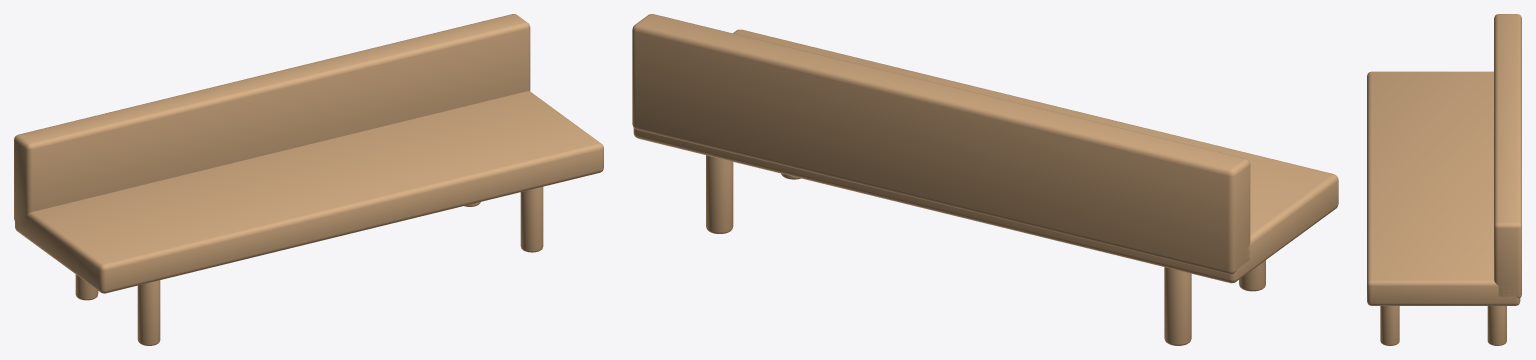
Rendered from bench.glb.
3 renders of one model, left to right at view 1: azimuth 30°, elevation 25°; view 2: azimuth 150°, elevation 25°; view 3: azimuth 270°, elevation 25°, orthographic. The views are drawn at different scales.
Visible parts, largest first — view 1: seat.007, back.004, leg-1.008, leg-3.008; view 2: back.004, seat.007, leg-2.008, leg-4.008, leg-1.008; view 3: seat.007, back.004, leg-3.008, leg-4.008.
Boxes of the visible parts, <box> form: seat.007: <box>15,91,603,293</box>; back.004: <box>14,14,530,227</box>; leg-1.008: <box>137,280,160,345</box>; leg-3.008: <box>520,187,543,252</box>; back.004: <box>632,14,1250,274</box>; seat.007: <box>633,29,1338,283</box>; leg-2.008: <box>1164,267,1191,345</box>; leg-4.008: <box>706,155,733,233</box>; leg-1.008: <box>1239,260,1265,291</box>; seat.007: <box>1367,71,1520,305</box>; back.004: <box>1494,14,1521,298</box>; leg-3.008: <box>1380,306,1399,345</box>; leg-4.008: <box>1487,306,1506,345</box>.
Bounding box in the file's own units: 1.8 × 0.5684 × 0.556.
